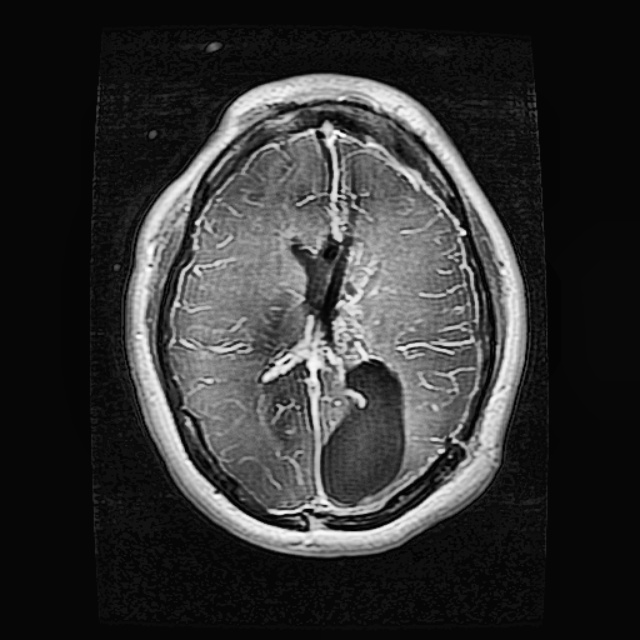Meningioma: (259, 222, 405, 507)
